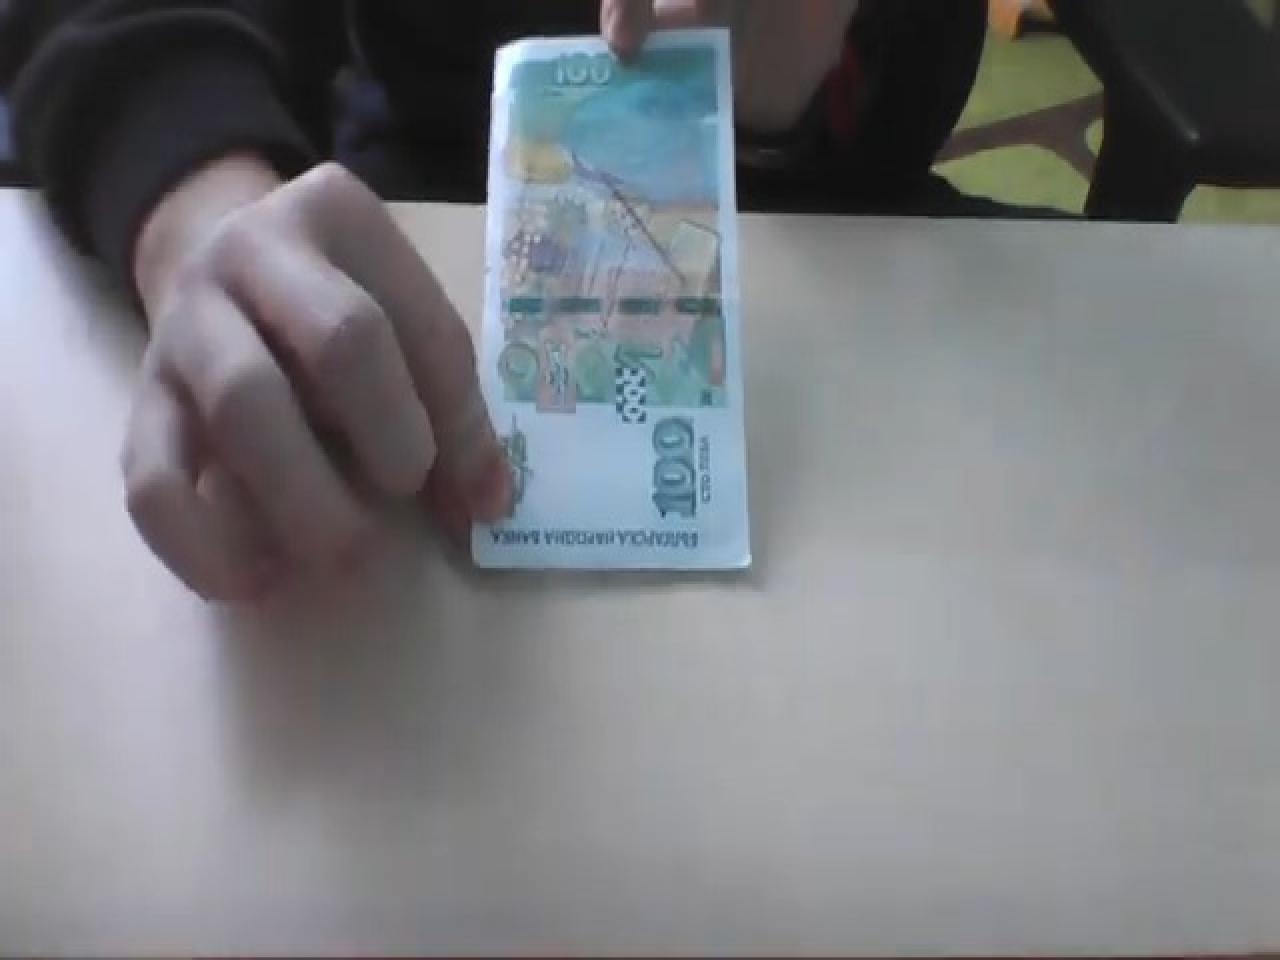100leva: (468, 24, 752, 571)
